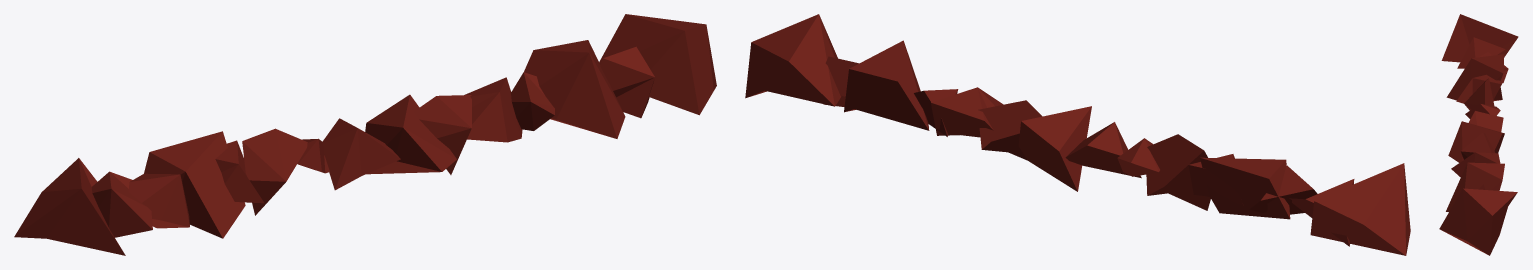
Rendered from FosaN1.fbx.
The picture shows the model from 3 angles, left to right: view 1: azimuth 30°, elevation 25°; view 2: azimuth 150°, elevation 25°; view 3: azimuth 270°, elevation 25°; orthographic projection. The views are drawn at different scales.
Parts seen in each view (by area): view 1: fosa.014, fosa.012, fosa.003, fosa, fosa.008, fosa.005, fosa.007, fosa.010, fosa.001, fosa.013, fosa.002, fosa.009 (+3 smaller); view 2: fosa, fosa.014, fosa.012, fosa.008, fosa.003, fosa.005, fosa.010, fosa.009, fosa.007, fosa.002, fosa.004, fosa.006 (+3 smaller); view 3: fosa.014, fosa, fosa.012, fosa.003, fosa.008, fosa.001, fosa.004, fosa.005, fosa.010, fosa.007, fosa.009, fosa.006 (+1 smaller).
Boxes of the visible parts, box(x1,y1,x2,y2) form: fosa.014: box(599, 14, 716, 115); fosa.012: box(524, 40, 625, 138); fosa.003: box(144, 131, 245, 238); fosa: box(14, 158, 125, 255); fosa.008: box(365, 94, 456, 174); fosa.005: box(242, 128, 307, 215); fosa.007: box(322, 118, 400, 190); fosa.010: box(465, 77, 522, 142); fosa.001: box(91, 171, 152, 237); fosa.013: box(600, 46, 654, 118); fosa.002: box(128, 173, 189, 228); fosa.009: box(413, 95, 471, 174); fosa: box(1310, 163, 1410, 255); fosa.014: box(745, 14, 841, 106); fosa.012: box(844, 40, 929, 130); fosa.008: box(1018, 106, 1091, 191); fosa.003: box(1200, 157, 1290, 219); fosa.005: box(1146, 134, 1210, 210); fosa.010: box(931, 87, 1003, 137); fosa.009: box(978, 100, 1042, 160); fosa.007: box(1065, 122, 1141, 178); fosa.002: box(1249, 165, 1317, 214); fosa.004: box(1188, 154, 1243, 205); fosa.006: box(1117, 138, 1159, 176); fosa.014: box(1439, 188, 1517, 255); fosa: box(1441, 14, 1518, 62); fosa.012: box(1446, 162, 1504, 211); fosa.003: box(1446, 54, 1504, 101); fosa.008: box(1448, 121, 1504, 162); fosa.001: box(1457, 37, 1505, 68); fosa.004: box(1456, 74, 1501, 103); fosa.005: box(1464, 78, 1494, 110); fosa.010: box(1451, 152, 1500, 177); fosa.007: box(1468, 111, 1503, 132); fosa.009: box(1461, 132, 1495, 159); fosa.006: box(1465, 103, 1500, 119).
Bounding box in the file's own units: 14085 × 1819 × 2296.
